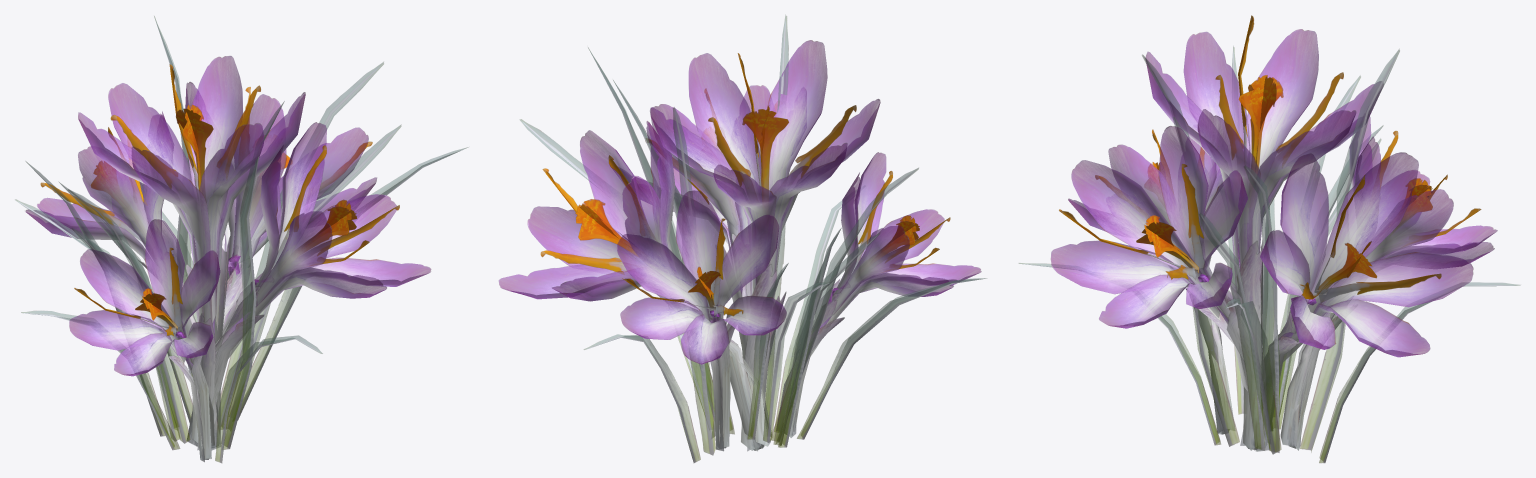
File: preview.glb
The picture shows the model from 3 angles, left to right: view 1: azimuth 30°, elevation 25°; view 2: azimuth 150°, elevation 25°; view 3: azimuth 270°, elevation 25°; orthographic projection. The views are drawn at different scales.
Parts seen in each view (by area): view 1: Flower_Crocus_vernus_A_Flower_glb, Flower_Crocus_vernus_A_Leaf_glb; view 2: Flower_Crocus_vernus_A_Flower_glb, Flower_Crocus_vernus_A_Leaf_glb; view 3: Flower_Crocus_vernus_A_Flower_glb, Flower_Crocus_vernus_A_Leaf_glb.
Part boxes in pixels (x1,y1,x2,y2): Flower_Crocus_vernus_A_Flower_glb: (25,56,431,376); Flower_Crocus_vernus_A_Leaf_glb: (15,16,468,463); Flower_Crocus_vernus_A_Flower_glb: (498,40,981,364); Flower_Crocus_vernus_A_Leaf_glb: (520,15,986,462); Flower_Crocus_vernus_A_Flower_glb: (1050,15,1497,357); Flower_Crocus_vernus_A_Leaf_glb: (1019,46,1520,463).
Bounding box in the file's own units: 0.1861 × 0.1499 × 0.167.
Materials: 2 (2 with a texture image).
